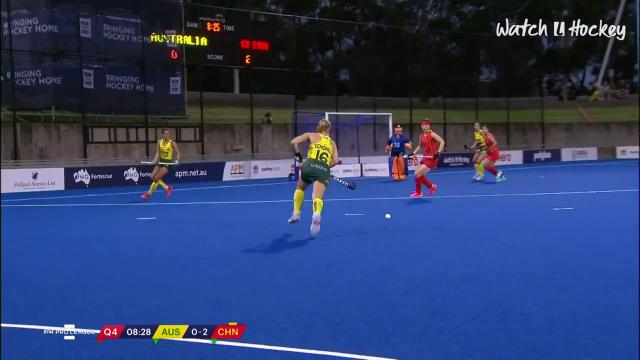ball: (380, 210, 395, 223)
